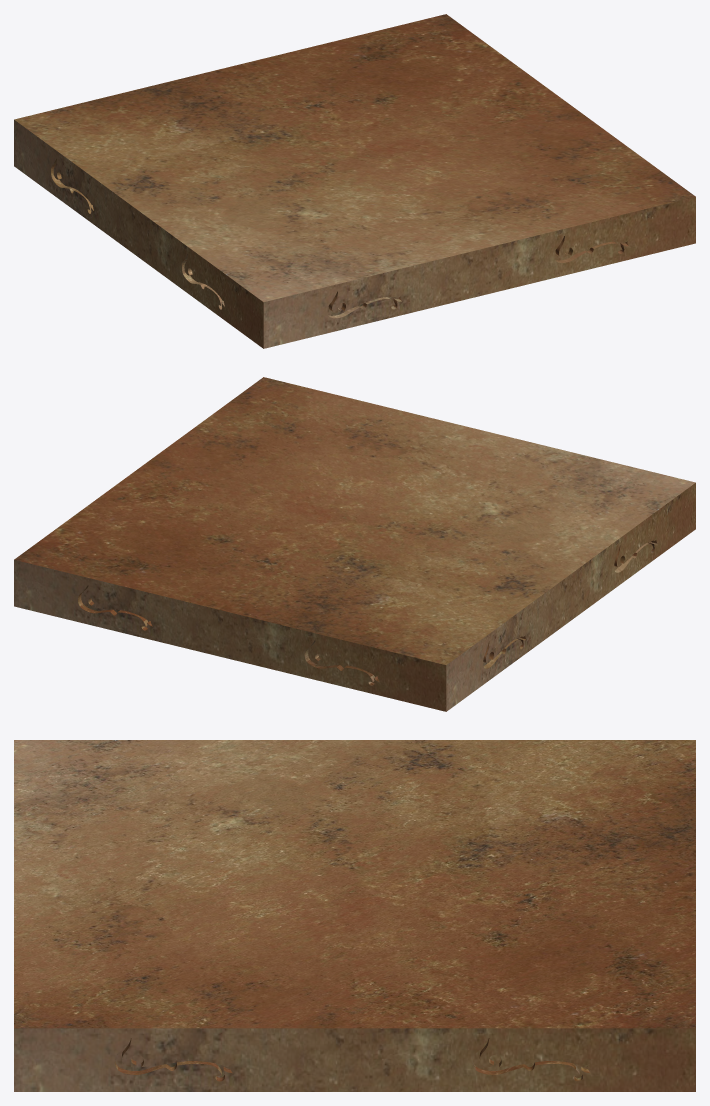
Rendered from luster.FBX.
3 renders of one model, top to bottom at view 1: azimuth 30°, elevation 25°; view 2: azimuth 150°, elevation 25°; view 3: azimuth 270°, elevation 25°, orthographic. The views are drawn at different scales.
Parts seen in each view (by area): view 1: g_Luster_part00; view 2: g_Luster_part00; view 3: g_Luster_part00.
Part boxes in pixels (x1=…): g_Luster_part00: x1=14, y1=14, x2=695, y2=348; g_Luster_part00: x1=14, y1=377, x2=695, y2=711; g_Luster_part00: x1=14, y1=740, x2=695, y2=1091.
Size of the model in its own units: 6.13 by 0.6323 by 6.13.
